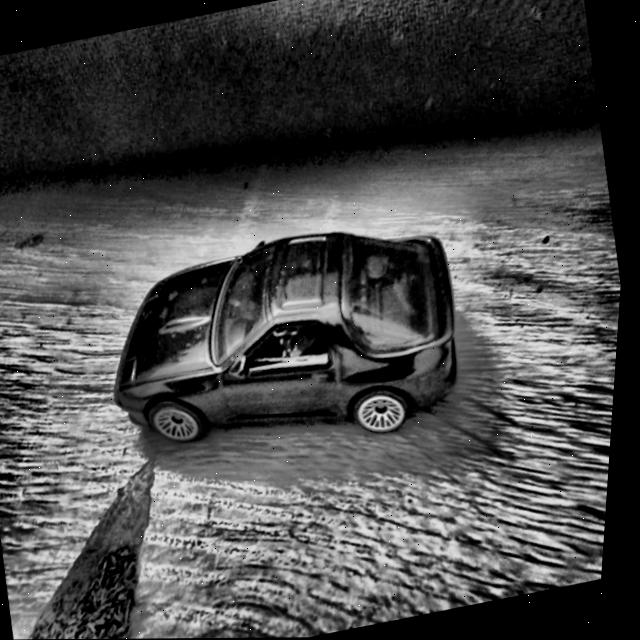car: (92, 204, 486, 486)
